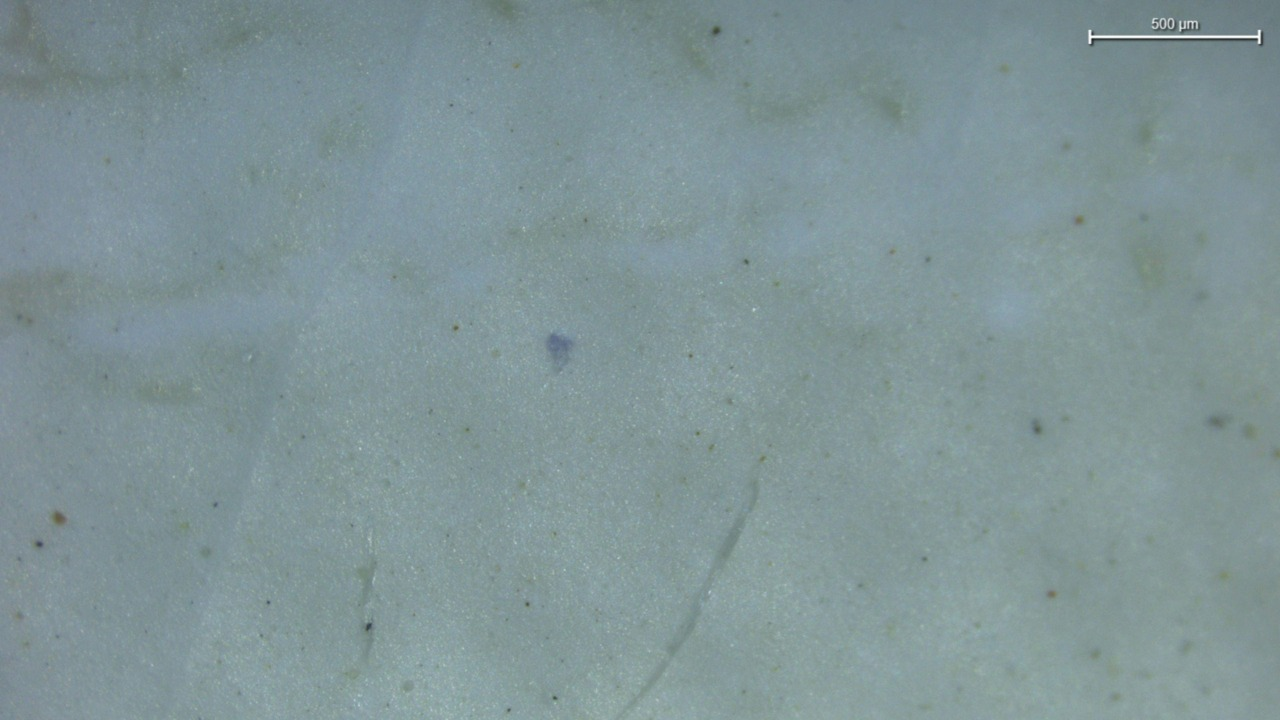microplastic_fragment: (546, 333, 573, 371)
